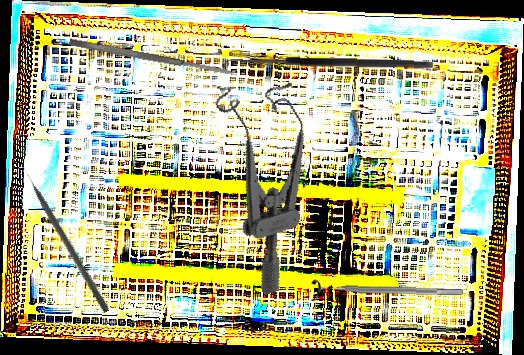Fixation Ring: (310, 277, 464, 305)
Hook Surgical: (223, 55, 434, 79)
Pusher: (18, 161, 112, 314)
Spatula Surgical: (68, 37, 234, 78)
Speculum: (197, 64, 352, 296)
